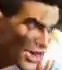kevin: (7, 2, 57, 67)
